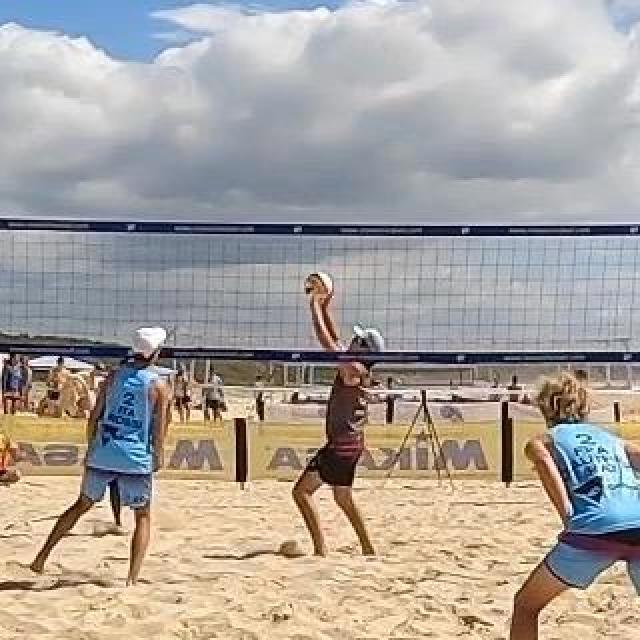volleyball: (303, 271, 331, 299)
